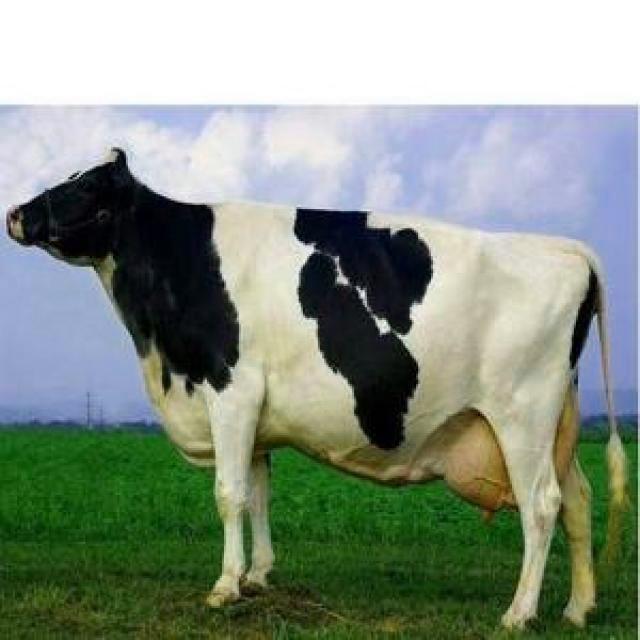cow: (6, 149, 630, 628)
